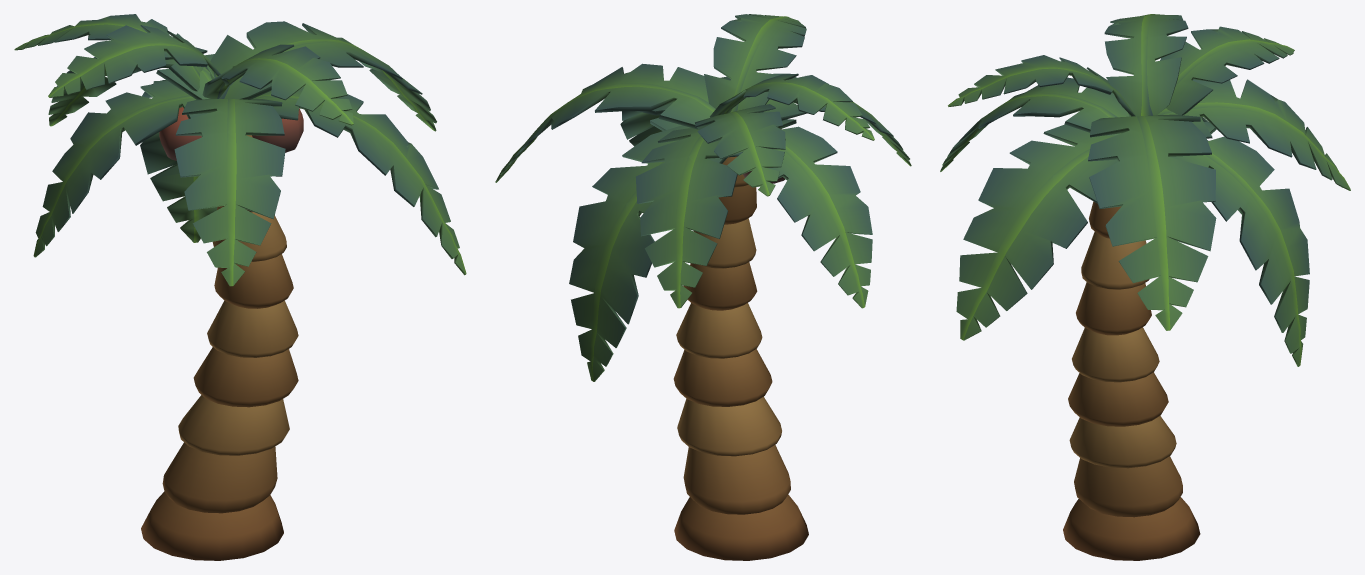
Rendered from Palm_Tree_04.fbx.
The picture shows the model from 3 angles, left to right: view 1: azimuth 30°, elevation 25°; view 2: azimuth 150°, elevation 25°; view 3: azimuth 270°, elevation 25°; orthographic projection. The views are drawn at different scales.
Visible parts, largest first — view 1: Palm_Tree_04; view 2: Palm_Tree_04; view 3: Palm_Tree_04.
Boxes of the visible parts, <box> form: Palm_Tree_04: <box>14,14,466,560</box>; Palm_Tree_04: <box>495,14,911,560</box>; Palm_Tree_04: <box>940,14,1350,560</box>.
Size of the model in its own units: 842 by 1010 by 787.
